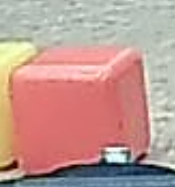orange_cube: (13, 44, 159, 166)
